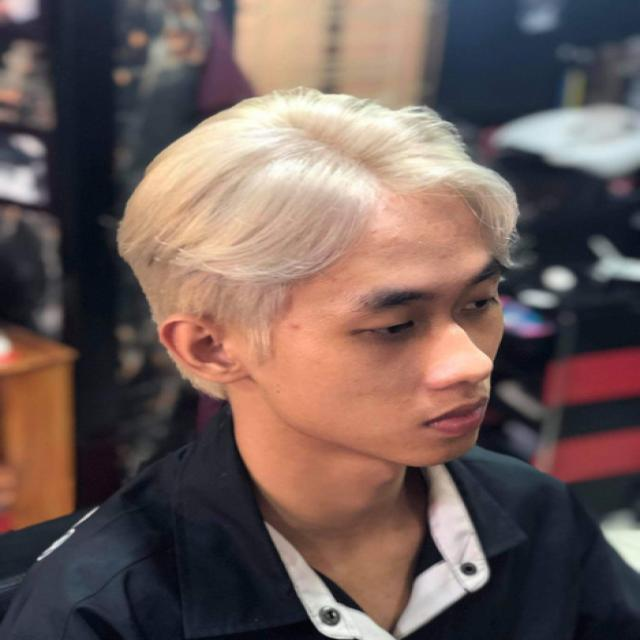Nonhelmet: (98, 76, 525, 478)
